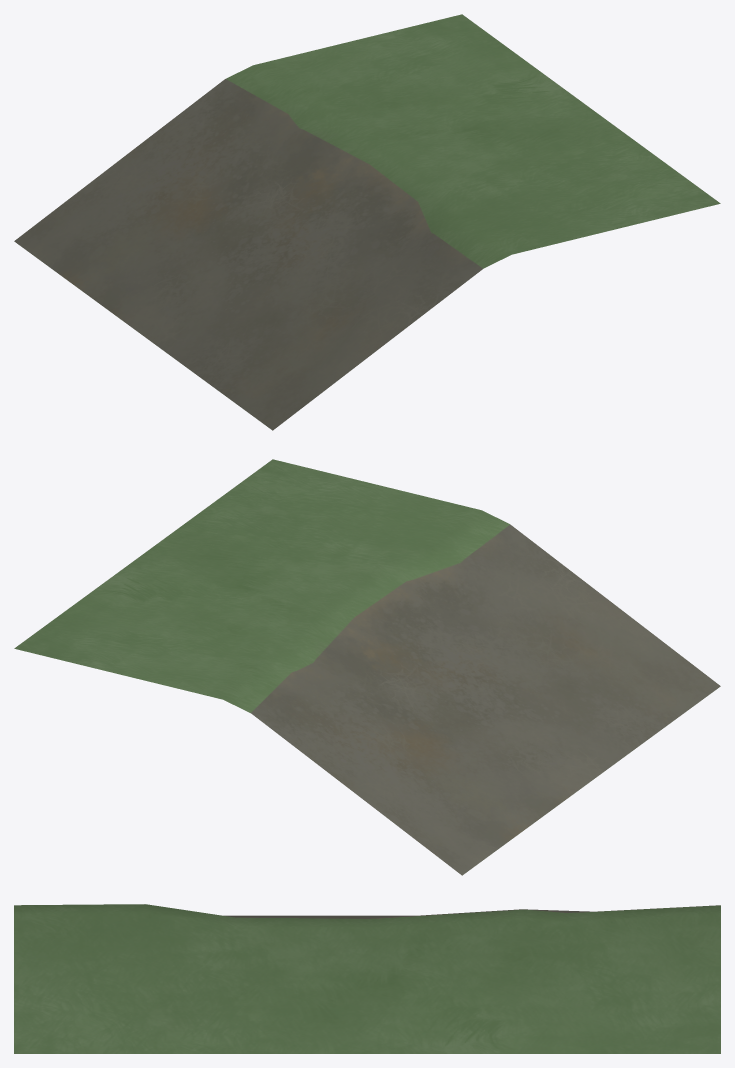
The model's file is Ramp.glb.
The picture shows the model from 3 angles, top to bottom: view 1: azimuth 30°, elevation 25°; view 2: azimuth 150°, elevation 25°; view 3: azimuth 270°, elevation 25°; orthographic projection. The views are drawn at different scales.
Visible parts, largest first — view 1: 4_Ramp-col; view 2: 4_Ramp-col; view 3: 4_Ramp-col.
Boxes of the visible parts, x1=… form: 4_Ramp-col: x1=14, y1=14, x2=720, y2=430; 4_Ramp-col: x1=14, y1=459, x2=720, y2=875; 4_Ramp-col: x1=14, y1=904, x2=720, y2=1053.
Size of the model in its own units: 1 by 0.2508 by 1.
Materials: 1 (1 with a texture image).
